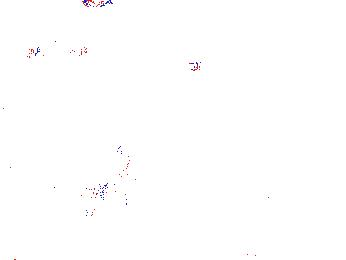red belly glassfish: (183, 57, 211, 72), (81, 1, 111, 9)
redtail glassfish: (88, 143, 129, 198), (28, 42, 94, 61)
siberian prawn: (1, 243, 92, 260)
